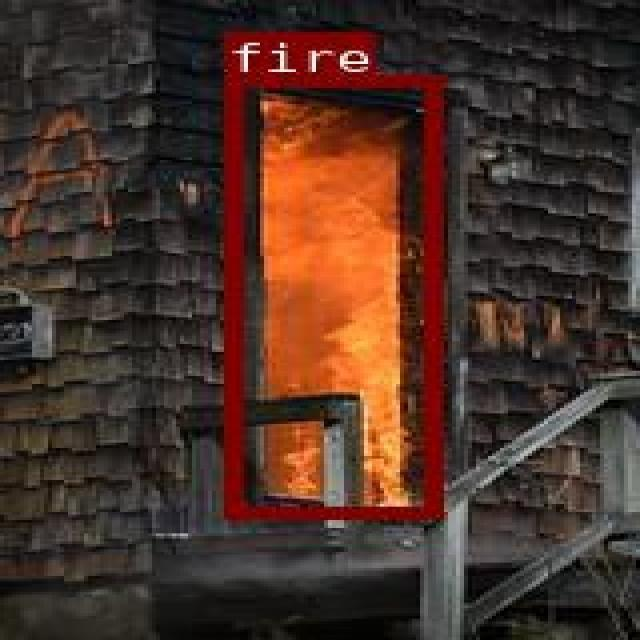fire: (222, 73, 439, 517)
